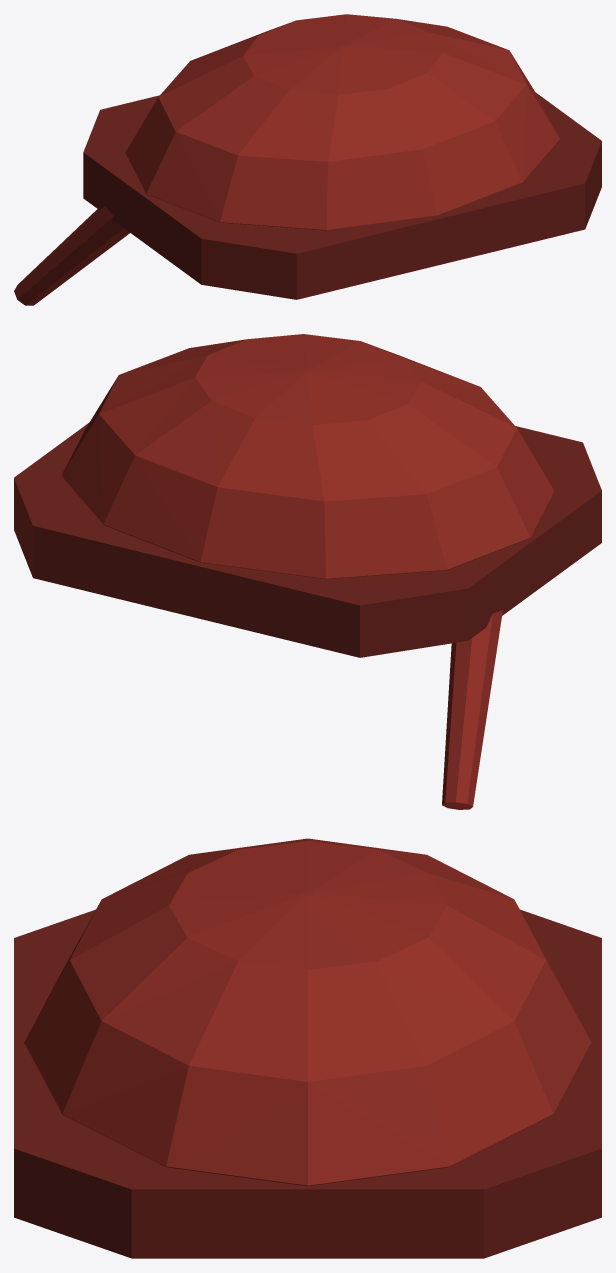
The model's file is wrap.glb.
3 renders of one model, top to bottom at view 1: azimuth 30°, elevation 25°; view 2: azimuth 150°, elevation 25°; view 3: azimuth 270°, elevation 25°, orthographic. The views are drawn at different scales.
Parts seen in each view (by area): view 1: Head Wrap.002; view 2: Head Wrap.002; view 3: Head Wrap.002.
Part boxes in pixels (x1,y1,x2,y2): Head Wrap.002: (14, 14, 601, 305); Head Wrap.002: (14, 334, 601, 809); Head Wrap.002: (14, 838, 601, 1258).
Size of the model in its own units: 0.7115 by 0.42 by 0.5559.
